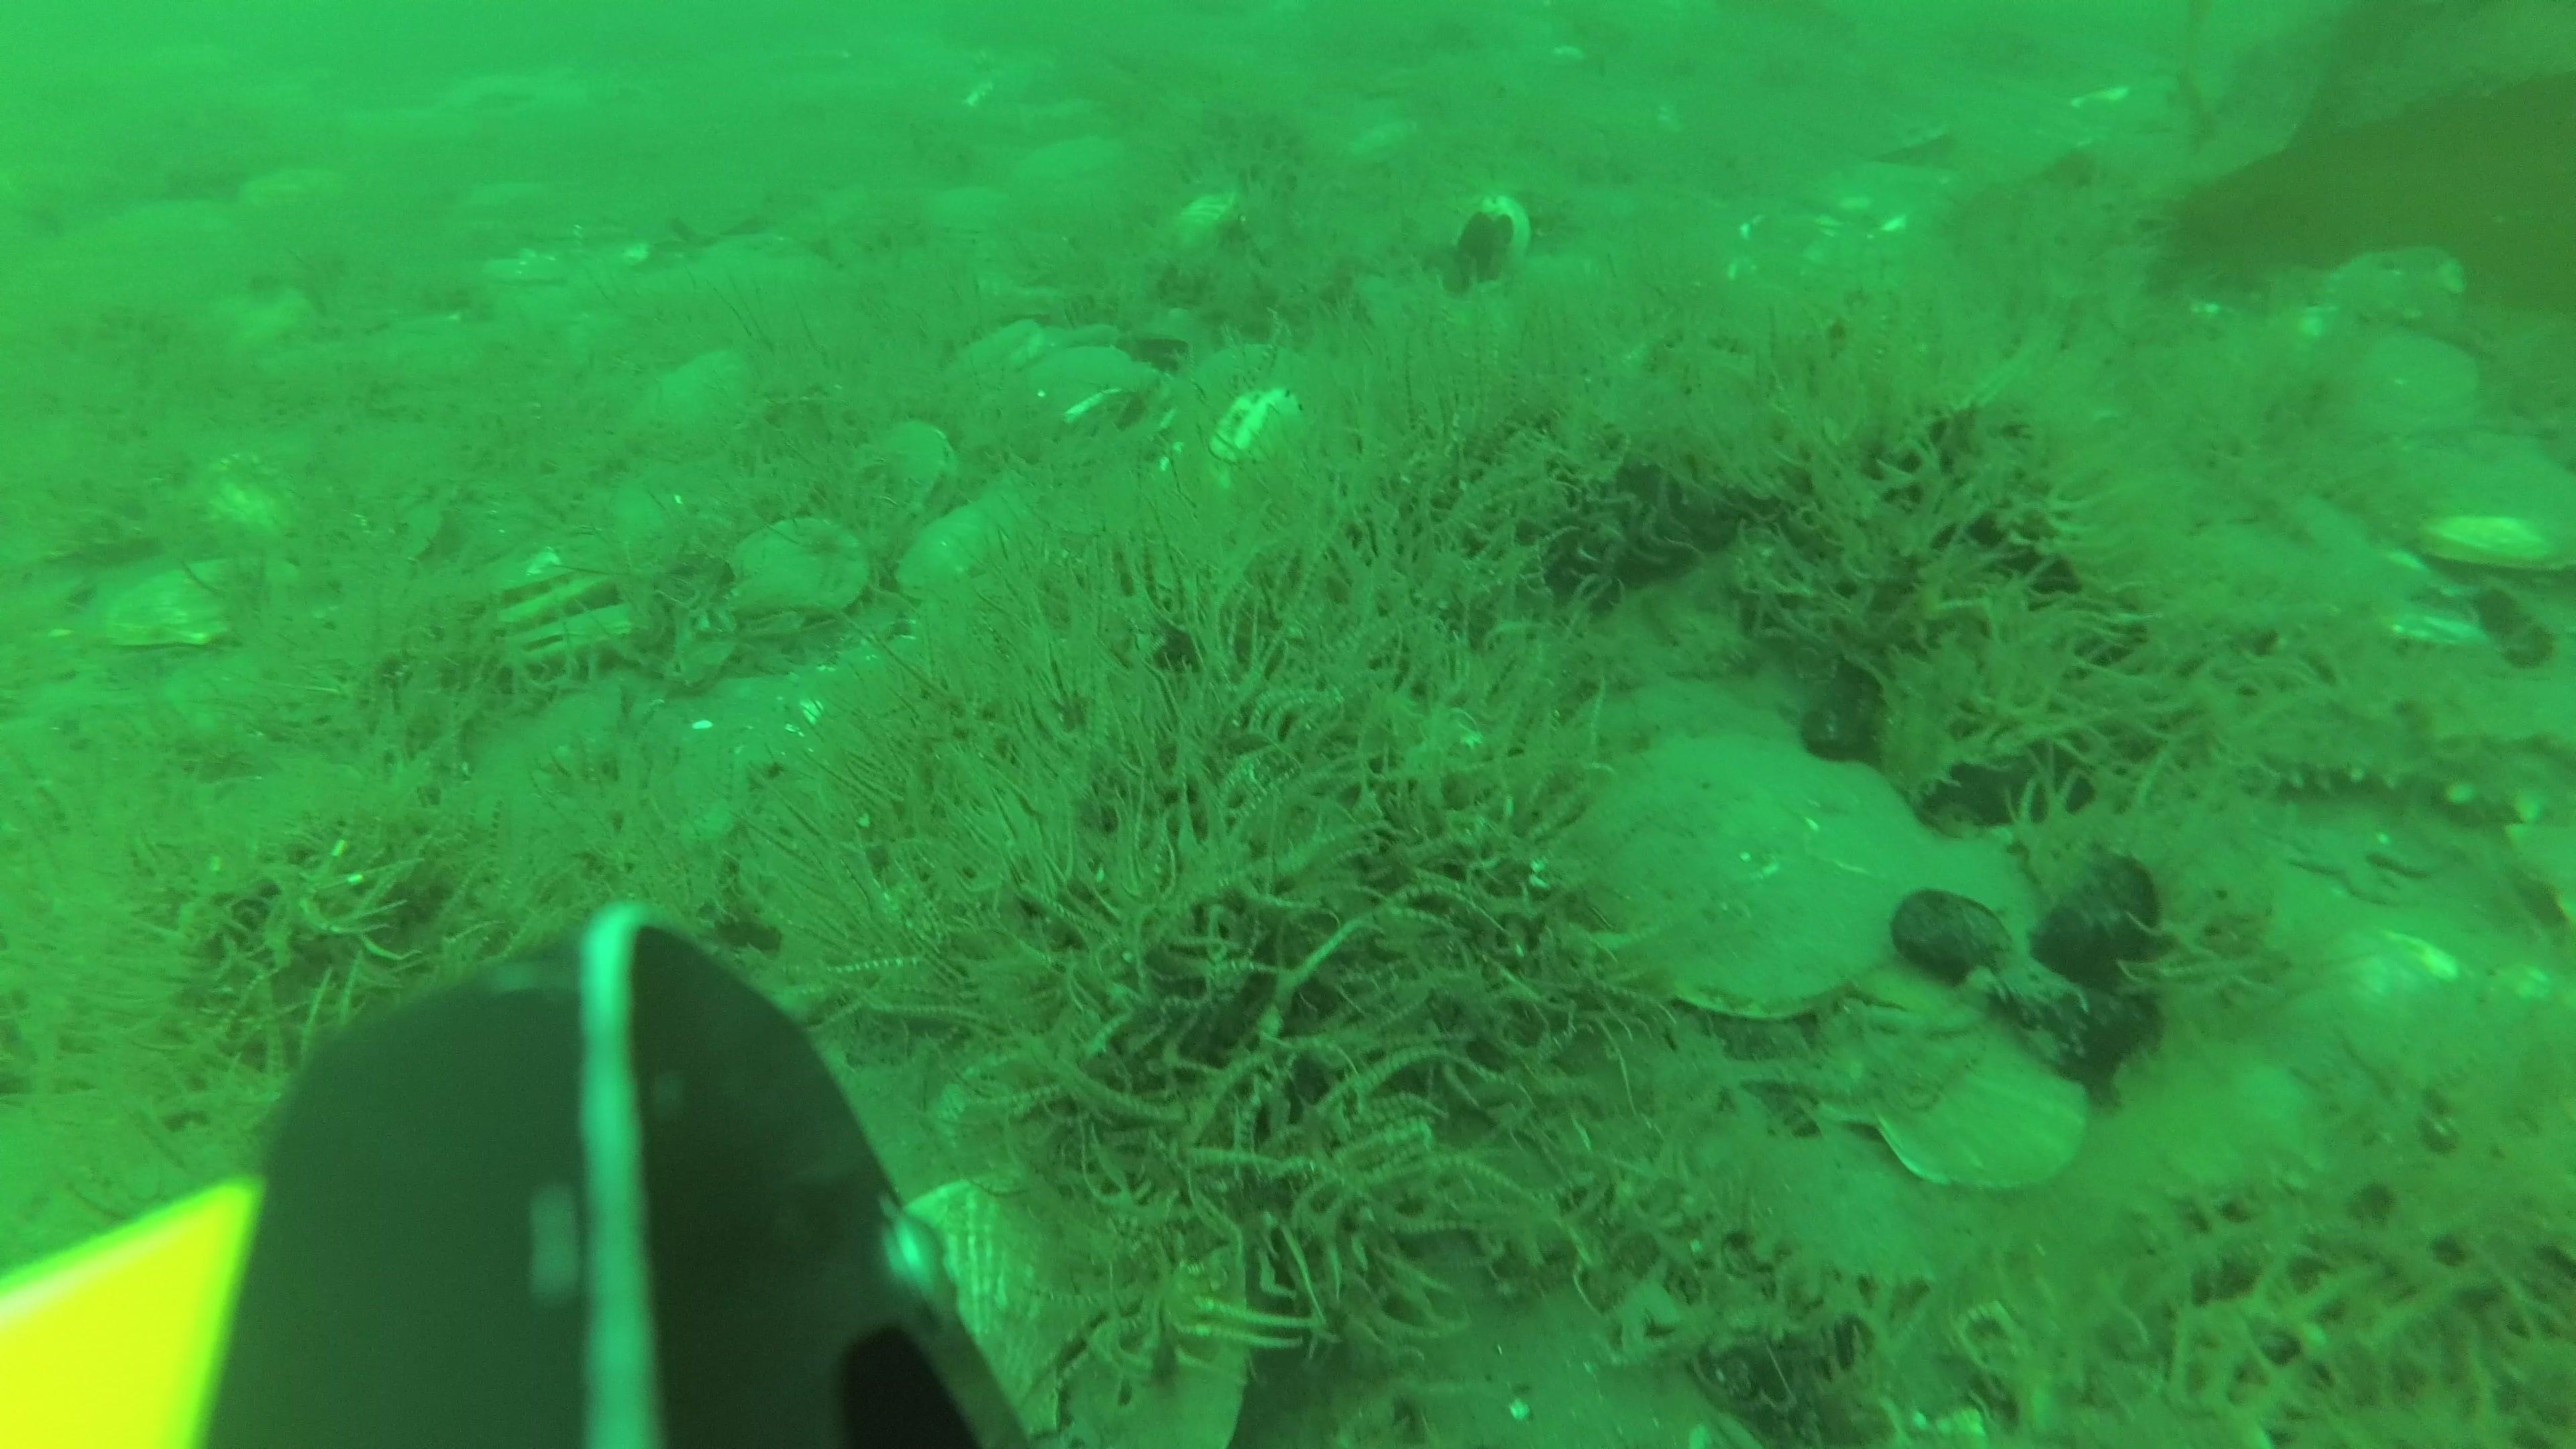holothurian: (2224, 711, 2525, 826)
scallop: (1564, 752, 1928, 1046), (897, 1162, 1150, 1449), (1815, 1017, 2095, 1205), (1838, 809, 2058, 1021), (2134, 1030, 2337, 1192), (2388, 430, 2576, 577), (103, 545, 272, 655), (830, 421, 977, 533), (722, 522, 881, 623), (899, 490, 1028, 607), (1030, 426, 1154, 543), (2337, 235, 2477, 331), (2353, 327, 2488, 425), (2327, 920, 2468, 1010), (639, 363, 761, 462), (472, 561, 603, 653), (494, 609, 639, 676), (472, 533, 594, 596)
